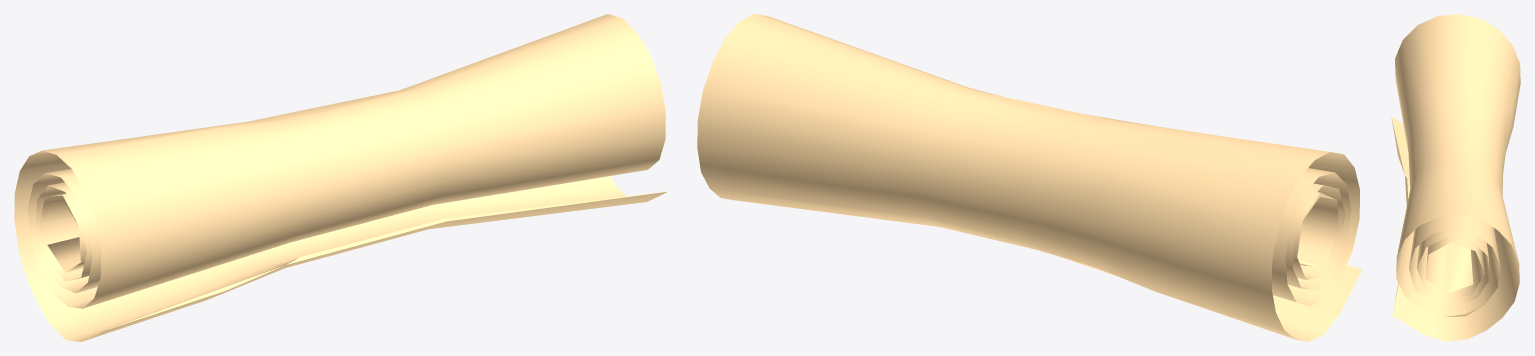
File: a96ced57-4243-4842-b9e1-45ffd45f1d88.glb
3 renders of one model, left to right at view 1: azimuth 30°, elevation 25°; view 2: azimuth 150°, elevation 25°; view 3: azimuth 270°, elevation 25°, orthographic. The views are drawn at different scales.
Parts seen in each view (by area): view 1: AnOldScrollMap; view 2: AnOldScrollMap; view 3: AnOldScrollMap.
Part boxes in pixels (x1,y1,x2,y2): AnOldScrollMap: (14,14,667,341); AnOldScrollMap: (697,14,1362,341); AnOldScrollMap: (1391,14,1520,341).
Bounding box in the file's own units: 0.3501 × 0.1056 × 0.0958.
1 material, 1 textured.
